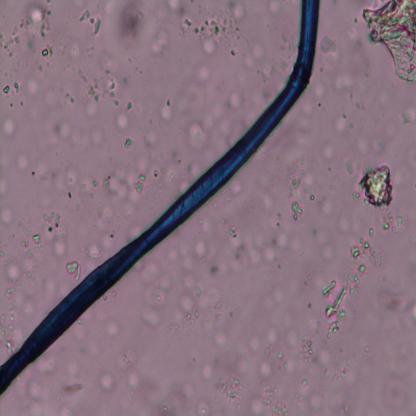Background material: (322, 216, 404, 336), (359, 1, 416, 86), (225, 225, 287, 266), (181, 15, 244, 54), (146, 372, 204, 414), (138, 257, 172, 327), (20, 211, 65, 256), (200, 95, 236, 148), (154, 154, 200, 190), (178, 240, 198, 320), (359, 164, 395, 208), (24, 256, 60, 300), (0, 284, 22, 354), (194, 262, 224, 313), (169, 81, 208, 119), (54, 120, 106, 148), (115, 0, 147, 44), (82, 70, 121, 106), (379, 370, 412, 410), (105, 166, 148, 196), (241, 42, 274, 80), (286, 165, 304, 224), (260, 382, 289, 415), (43, 84, 78, 111), (118, 349, 140, 391), (283, 324, 301, 375), (217, 376, 243, 411), (24, 5, 51, 37), (270, 283, 290, 326), (26, 379, 51, 413), (87, 229, 115, 259), (79, 182, 103, 216), (356, 133, 390, 157), (77, 5, 102, 36), (305, 162, 323, 205), (320, 356, 350, 381), (300, 334, 319, 368), (62, 348, 83, 378), (188, 120, 208, 151), (150, 28, 172, 56), (0, 25, 21, 54), (335, 110, 357, 137), (101, 314, 120, 342), (318, 33, 340, 55), (333, 72, 357, 92), (62, 164, 79, 189), (23, 72, 40, 96), (14, 150, 31, 174), (160, 98, 174, 126), (194, 62, 211, 85), (121, 197, 137, 221), (228, 177, 246, 198), (36, 357, 58, 374), (228, 89, 244, 112), (258, 358, 274, 381), (266, 325, 282, 348), (318, 197, 336, 217), (0, 205, 15, 229), (6, 261, 22, 282), (65, 40, 81, 61), (99, 372, 115, 393), (144, 128, 160, 149), (200, 362, 215, 384), (248, 330, 262, 353), (401, 104, 416, 125), (1, 81, 22, 96), (192, 238, 207, 259), (2, 115, 16, 137), (231, 2, 248, 20), (344, 152, 356, 177), (322, 141, 336, 162), (115, 111, 130, 130), (67, 260, 81, 280), (63, 381, 86, 393), (214, 328, 228, 347), (40, 42, 53, 59), (124, 135, 134, 150), (124, 101, 133, 113)
Microfibre: (0, 0, 322, 395)
